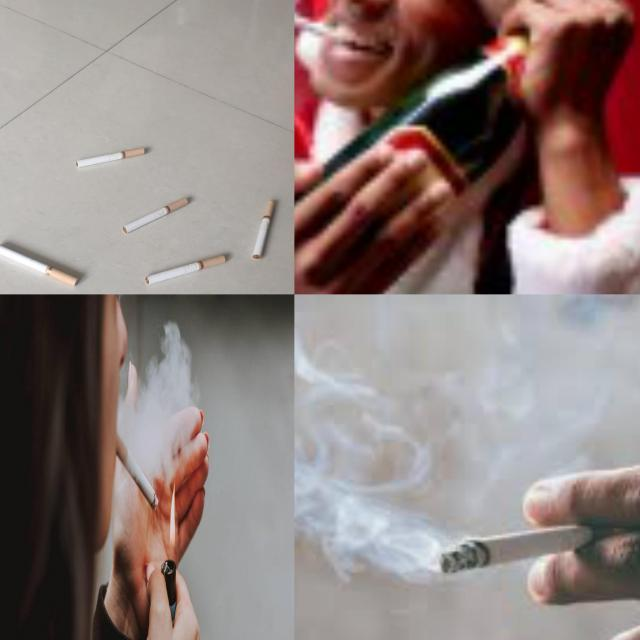smoke: (438, 522, 622, 576), (112, 431, 158, 512), (0, 244, 82, 288), (294, 0, 356, 46), (146, 254, 227, 286), (122, 197, 189, 234), (253, 200, 277, 260), (75, 148, 146, 168)
